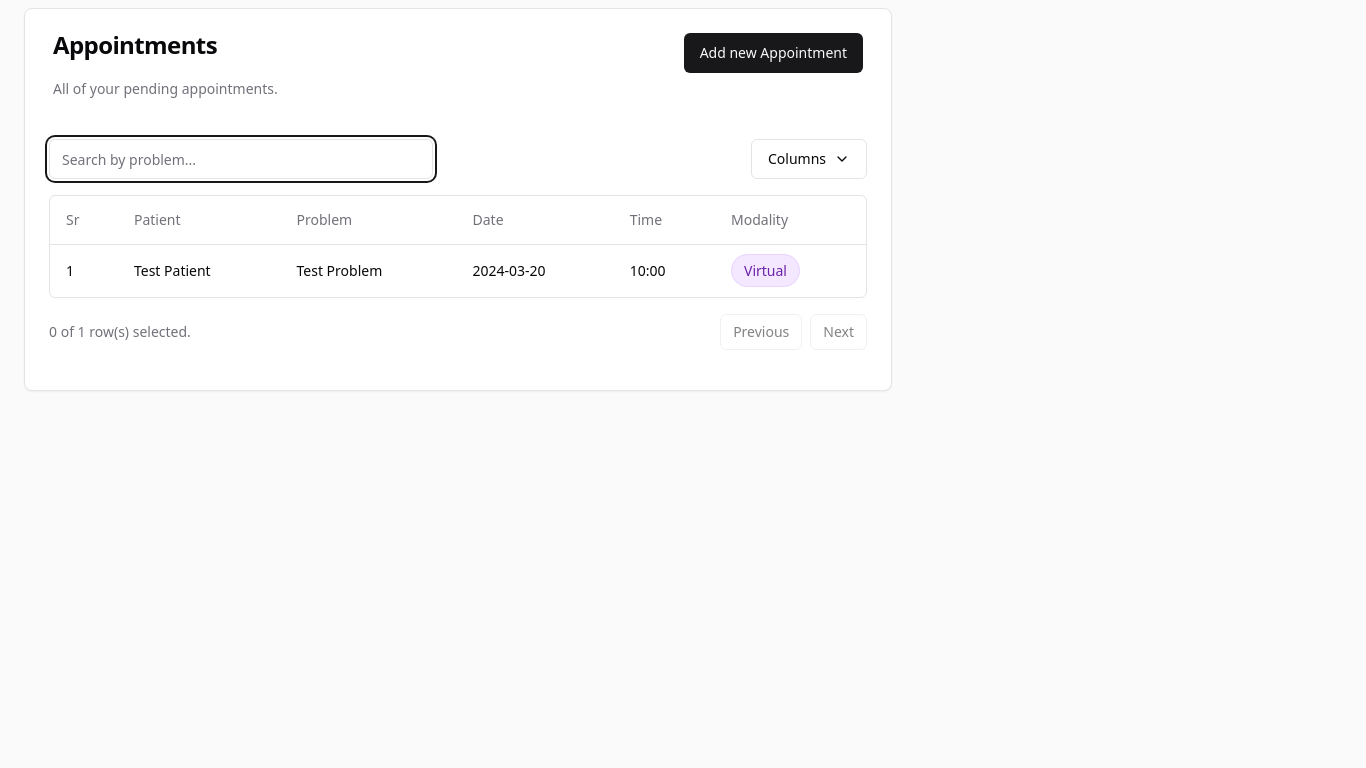
Integración de Telemedicina › debería iniciar correctamente una sesión de telemedicina
Expected: the text "Test Patient" is shown, [118, 244, 280, 296]
// Hacer clic en la fila de la cita
Click the text "Test Patient": (172, 270) [50, 244, 866, 296]
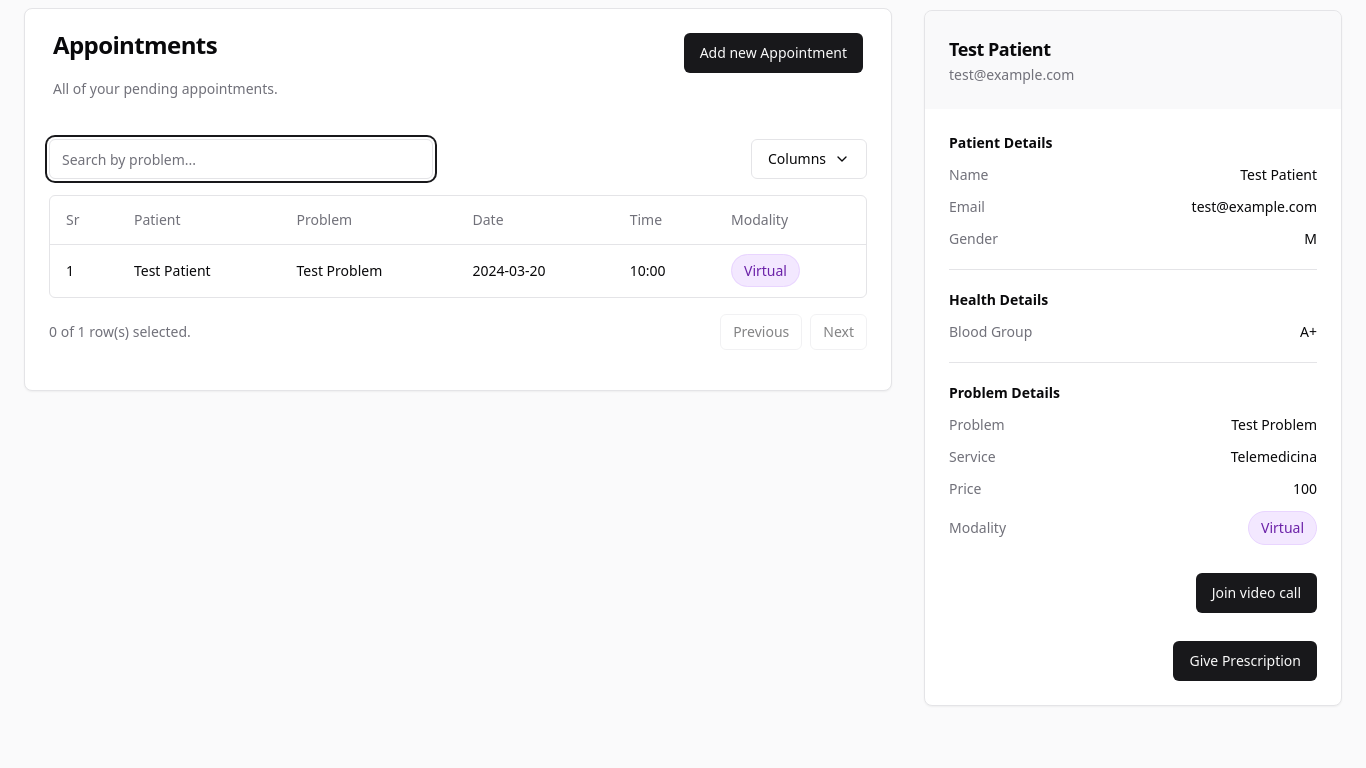
Expected: the text "Problem Details" is shown, [949, 383, 1060, 402]
// Hacer clic en el botón de videollamada
Click the button "Join video call": (1256, 593) [1196, 573, 1317, 613]
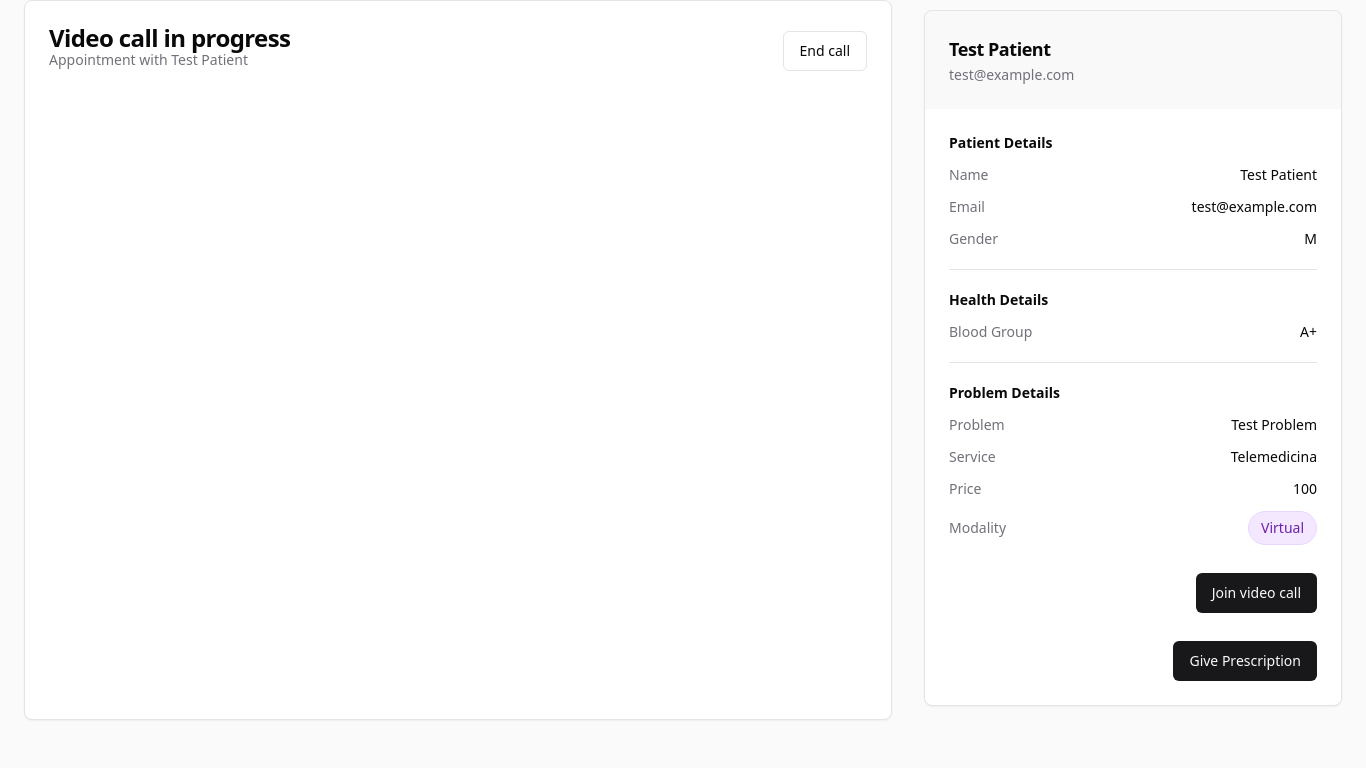
Expected: the heading "Video call in progress" is shown, [49, 26, 290, 50]
